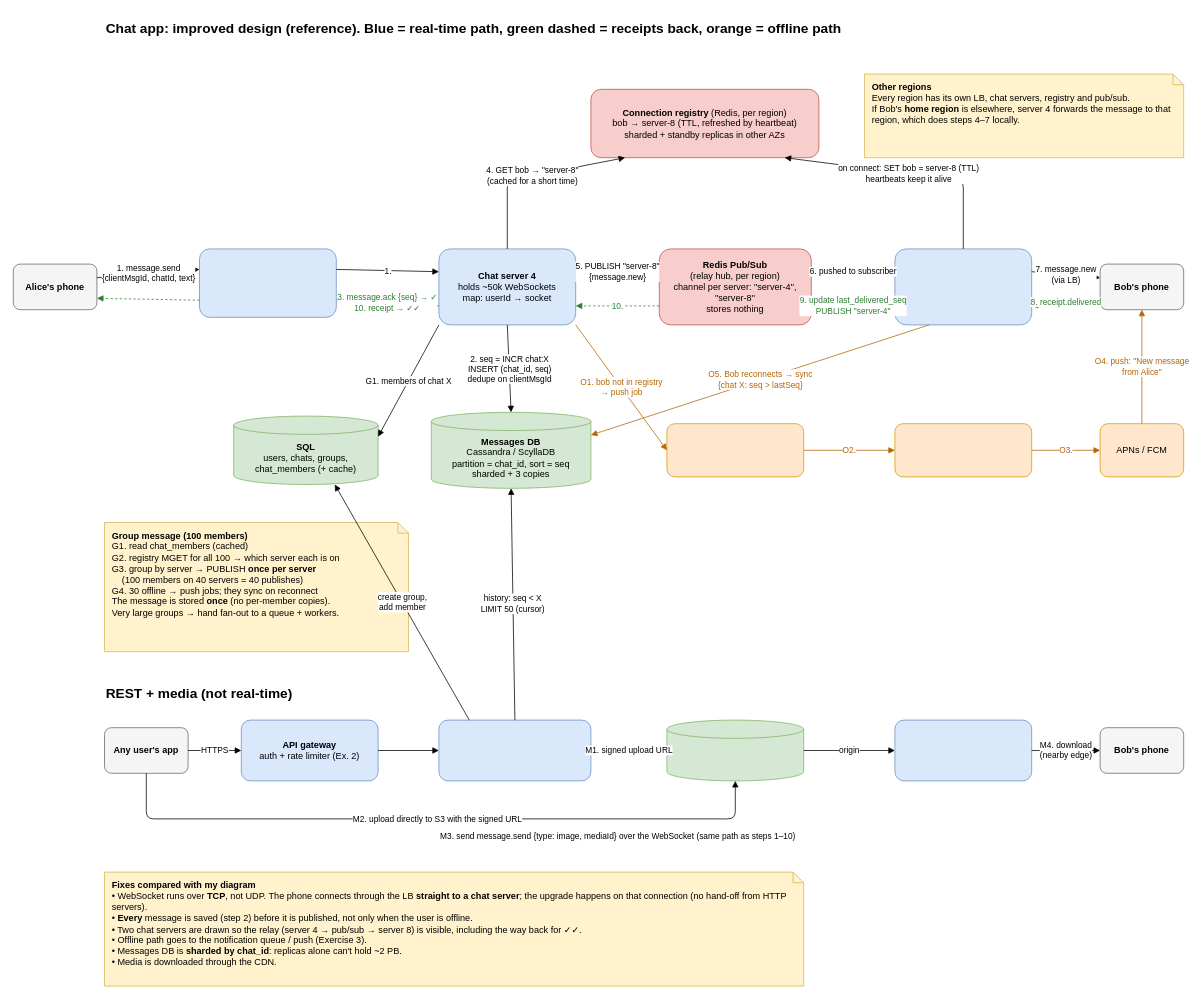
Image size: 1202x999. Some labels were removed from this diagram. Here are the shapes that lost their labels. From the top down, the centre of each, then its label:
(267,282): Load balancer (L4, WebSocket) least-connections; long-lived TCP connections
(963,286): Chat server 8 subscribed to "server-8"
(735,450): Notification queue (Exercise 3)
(963,450): Notification service workers
(514,750): REST servers login, groups, history pages, signed upload URL
(735,750): S3 (media files)
(963,750): CDN (S3 is its origin)
